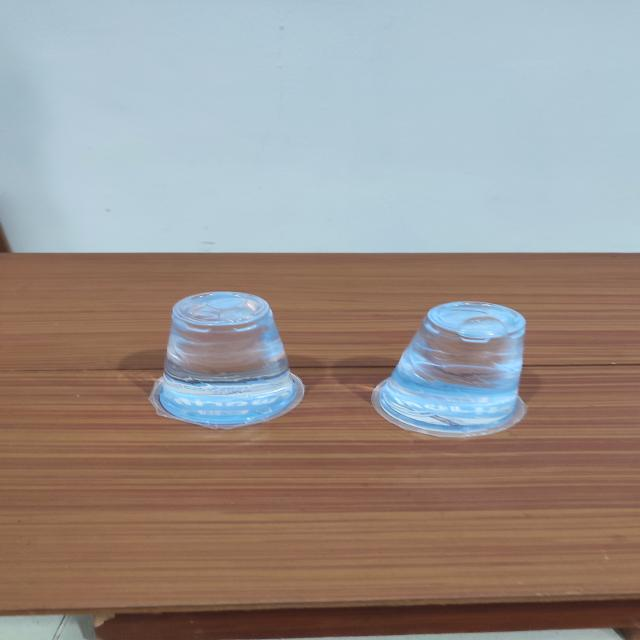air gelas: (366, 299, 554, 442), (143, 286, 307, 432)
